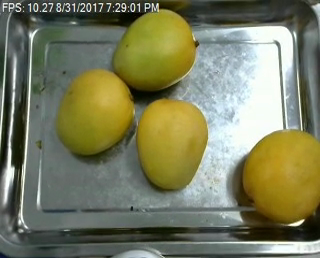Mango: (239, 130, 320, 224), (53, 68, 135, 158), (111, 7, 198, 86), (137, 97, 207, 189)
